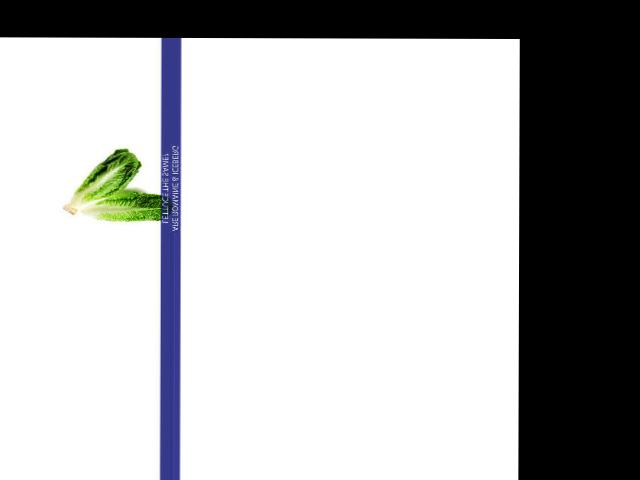lettuce: (53, 152, 145, 214)
